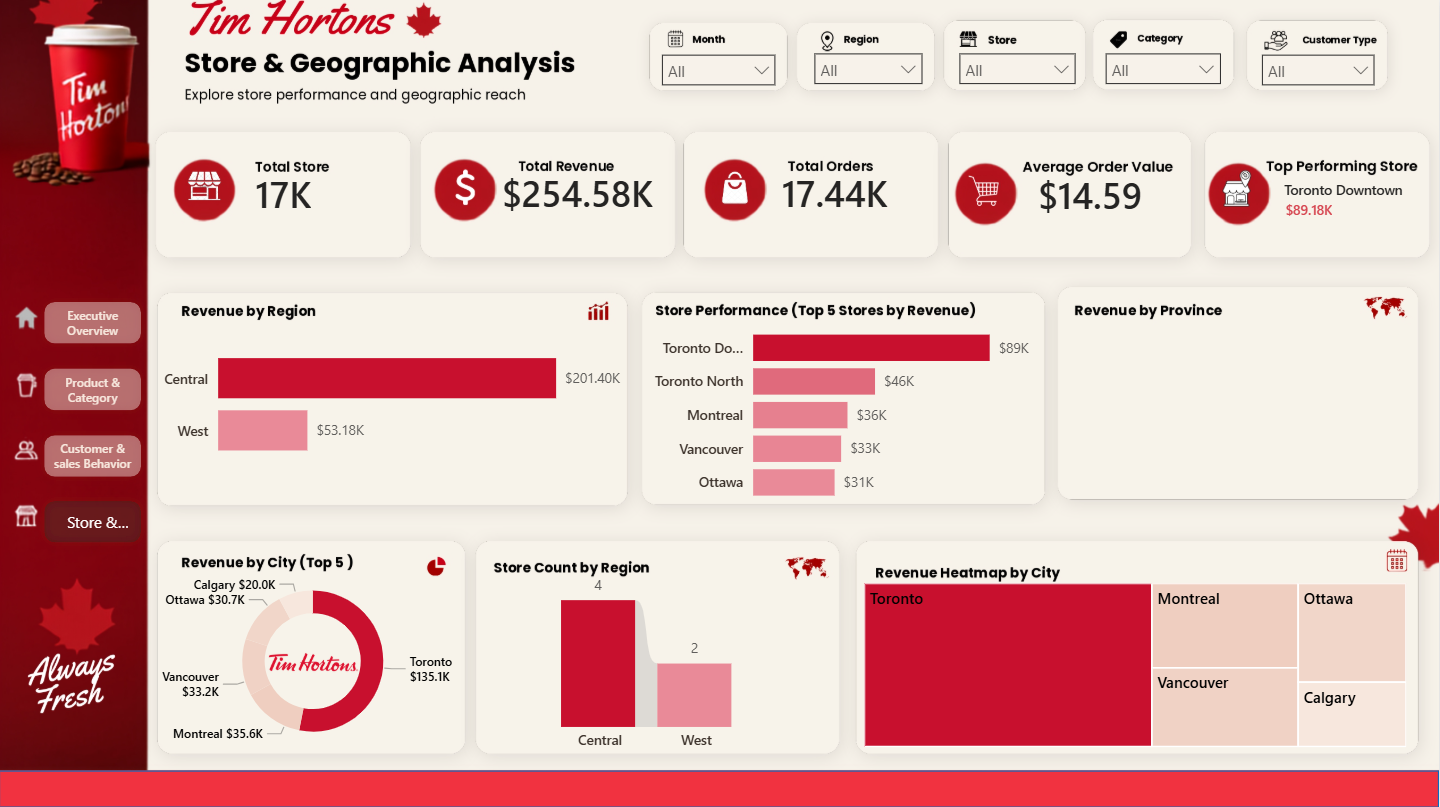

The dashboard page shown, as its layout file describes it:
{"tool":"powerbi","page":{"name":"Store & Geographic Analysis","canvas":[1280,720],"ordinal":3},"visuals":[{"type":"cardVisual","fields":{"Data":["Measures (2).Total Revenue"]},"box":[418.3,126.8,195,90.6],"z":0},{"type":"cardVisual","fields":{"Data":["Measures (2).Average Order Value"]},"box":[894.4,130.2,173.7,86.9],"z":1000},{"type":"cardVisual","fields":{"Data":["Measures (2).Total Orders"]},"box":[666.7,126.8,195,90.6],"z":2000},{"type":"cardVisual","fields":{"Data":["Measures (2).Total Stores"]},"box":[198.4,129.4,173.7,86.9],"z":3000},{"type":"cardVisual","fields":{"Data":["Measures (2).Top Performing Store"]},"box":[1113.7,134.2,165.3,70],"z":4000},{"type":"cardVisual","fields":{"Data":["Measures (2).Top Store Revenue"]},"box":[1114.7,152.7,165.3,70],"z":5000},{"type":"slicer","fields":{"Values":["DimDate.Month Name"]},"box":[578.7,39.9,121.6,49.6],"z":6000},{"type":"slicer","fields":{"Values":["DimStore.Store"]},"box":[843.3,38.9,123.5,49.6],"z":7000},{"type":"slicer","fields":{"Values":["DimProduct.Category"]},"box":[973.6,38.9,122.6,49.6],"z":8000},{"type":"slicer","fields":{"Values":["SalesData.CustomerType"]},"box":[1112.7,39.9,120.6,49.6],"z":9000},{"type":"slicer","fields":{"Values":["DimLocation.Region"]},"box":[714,39.4,116.3,45.2],"z":10000},{"type":"barChart","fields":{"Category":["DimLocation.Region"],"Y":["Measures (2).Total Revenue"]},"box":[140.3,265.2,419,185.5],"z":11000},{"type":"barChart","fields":{"Category":["DimStore.Store"],"Y":["Measures (2).Total Revenue"]},"box":[565.2,274.9,366.2,185.8],"z":12000},{"type":"filledMap","fields":{"Category":["DimLocation.Province"]},"box":[943.5,284.8,312.3,156.2],"z":13000},{"type":"donutChart","fields":{"Category":["DimLocation.City"],"Y":["Measures (2).Total Revenue"]},"box":[139.7,501.4,278.2,177],"z":14000},{"type":"treemap","fields":{"Values":["Measures (2).Total Revenue"],"Group":["DimLocation.City"]},"box":[764.3,515.7,491.5,155.1],"z":15000},{"type":"columnChart","fields":{"Category":["DimLocation.Region"],"Y":["CountNonNull(DimStore.Store)"]},"box":[417.9,501.4,318.9,177],"z":16000},{"type":"image","box":[227.6,554.2,103.4,72.6],"z":17000},{"type":"pageNavigator","box":[31.7,262.3,102.8,230.6],"z":18000},{"type":"shape","box":[0,687,1280,33],"z":18001}]}

Visuals, with their boxes on the page's 1280x720 design canvas (x1, y1, x2, y2). These are canvas units, not pixel positions in the 1440x807 screenshot, which may show the page scaled, cropped or inside an application window:
cardVisual - Measures (2).Total Revenue: (418, 127, 613, 217)
cardVisual - Measures (2).Average Order Value: (894, 130, 1068, 217)
cardVisual - Measures (2).Total Orders: (667, 127, 862, 217)
cardVisual - Measures (2).Total Stores: (198, 129, 372, 216)
cardVisual - Measures (2).Top Performing Store: (1114, 134, 1279, 204)
cardVisual - Measures (2).Top Store Revenue: (1115, 153, 1280, 223)
slicer - DimDate.Month Name: (579, 40, 700, 90)
slicer - DimStore.Store: (843, 39, 967, 88)
slicer - DimProduct.Category: (974, 39, 1096, 88)
slicer - SalesData.CustomerType: (1113, 40, 1233, 90)
slicer - DimLocation.Region: (714, 39, 830, 85)
barChart - DimLocation.Region x Measures (2).Total Revenue: (140, 265, 559, 451)
barChart - DimStore.Store x Measures (2).Total Revenue: (565, 275, 931, 461)
filledMap - DimLocation.Province: (944, 285, 1256, 441)
donutChart - DimLocation.City x Measures (2).Total Revenue: (140, 501, 418, 678)
treemap - Measures (2).Total Revenue x DimLocation.City: (764, 516, 1256, 671)
columnChart - DimLocation.Region x CountNonNull(DimStore.Store): (418, 501, 737, 678)
image: (228, 554, 331, 627)
pageNavigator: (32, 262, 134, 493)
shape: (0, 687, 1280, 720)
